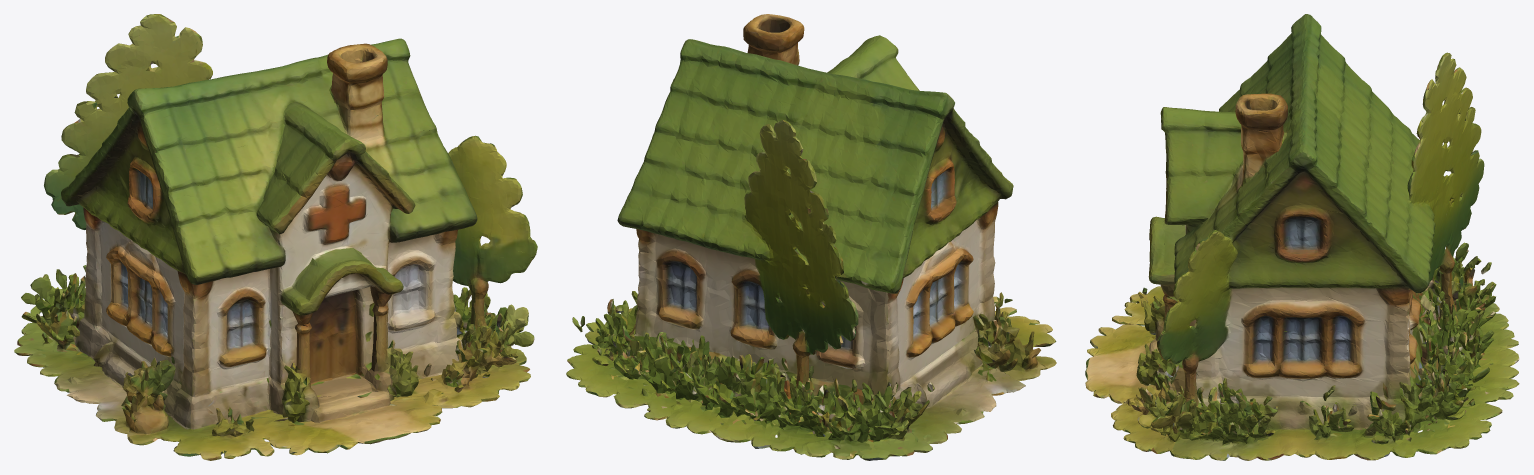
File: wc-clinic-paint.glb
3 views of the same model, side by side, from view 1: azimuth 30°, elevation 25°; view 2: azimuth 150°, elevation 25°; view 3: azimuth 270°, elevation 25° (orthographic). The views are drawn at different scales.
Parts seen in each view (by area): view 1: geometry_0; view 2: geometry_0; view 3: geometry_0.
Boxes of the visible parts, x1,y1,x2,y2 form: geometry_0: (14, 14, 537, 460); geometry_0: (566, 14, 1056, 460); geometry_0: (1085, 14, 1519, 460).
Size of the model in its own units: 2 by 1.5 by 1.99.
Materials: 1 (1 with a texture image).
